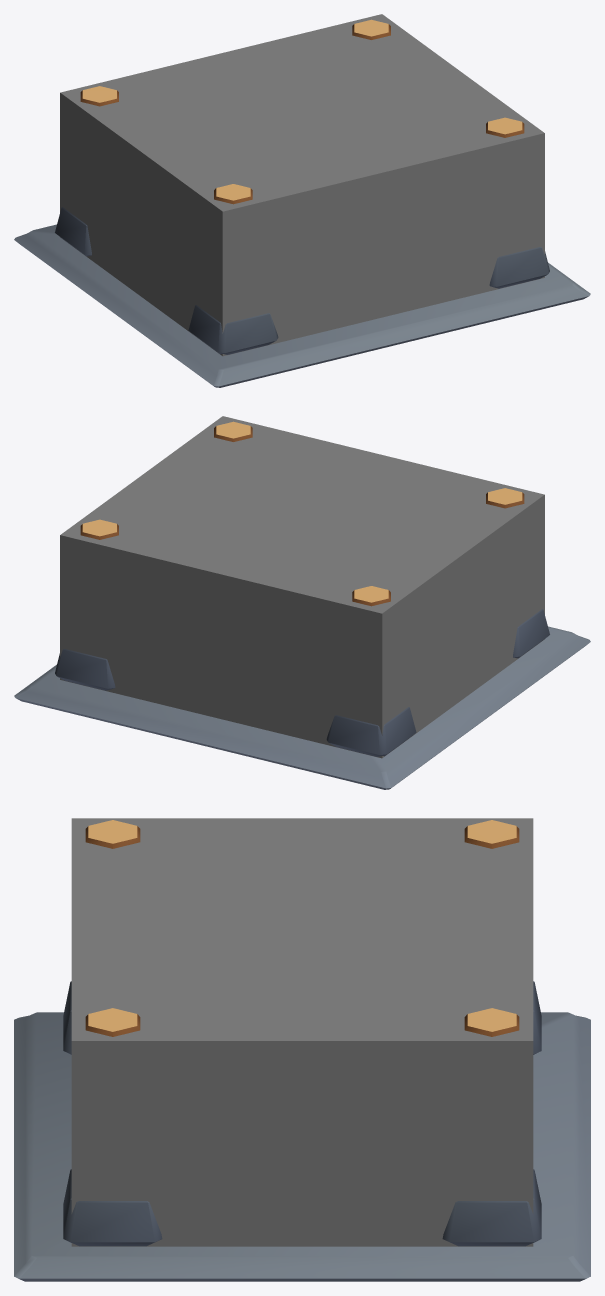
The model's file is collection_crate.glb.
3 views of the same model, one above another, from view 1: azimuth 30°, elevation 25°; view 2: azimuth 150°, elevation 25°; view 3: azimuth 270°, elevation 25° (orthographic). The views are drawn at different scales.
Visible parts, largest first — view 1: COL_Crate, CollectionCrate_Static; view 2: COL_Crate, CollectionCrate_Static; view 3: COL_Crate, CollectionCrate_Static.
Part boxes in pixels (x1,y1,x2,y2): COL_Crate: (60, 14, 544, 356); CollectionCrate_Static: (14, 19, 590, 387); COL_Crate: (60, 416, 544, 758); CollectionCrate_Static: (14, 421, 590, 789); COL_Crate: (71, 818, 533, 1246); CollectionCrate_Static: (14, 820, 590, 1281).
Bounding box in the file's own units: 1.5 × 0.61 × 1.4.
